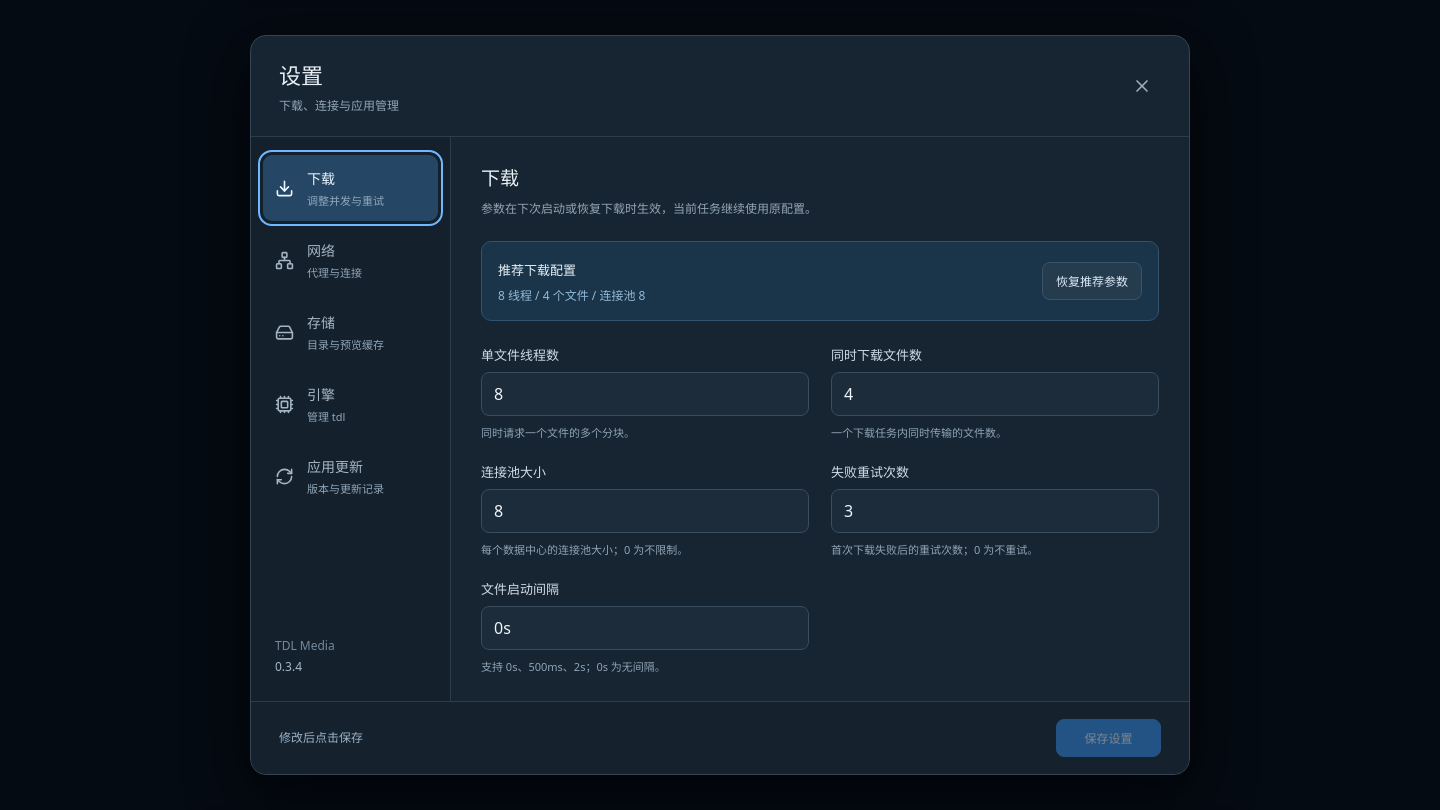
Test case: rejects invalid numbers and places backend validation at the field
This screenshot has width=1440, height=810.
Replace the text in the number field labelled "单文件线程数" with "0" at (645, 394), box [481,372,809,416]
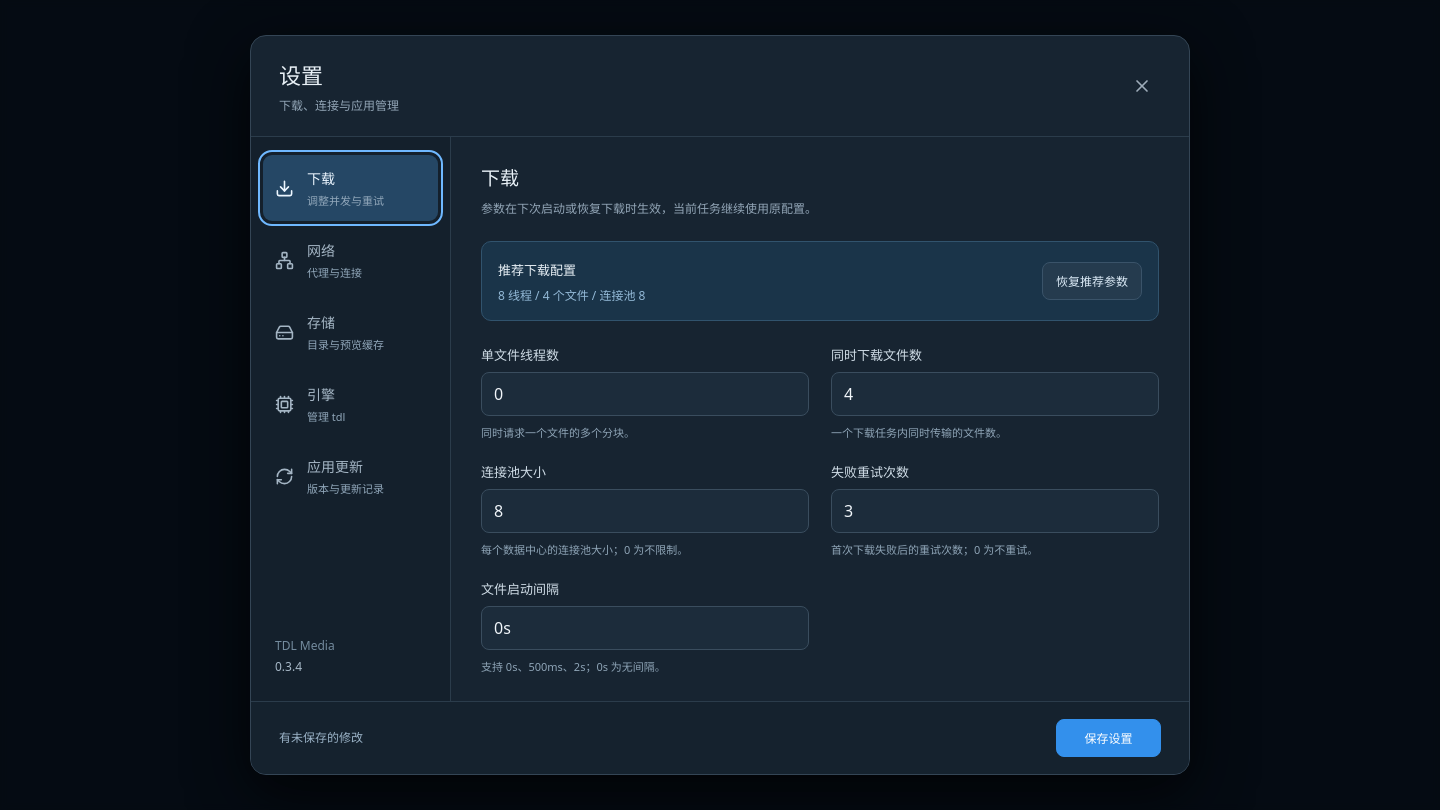
Click the button "保存设置".
click(1108, 738)  # box [1056,719,1161,757]
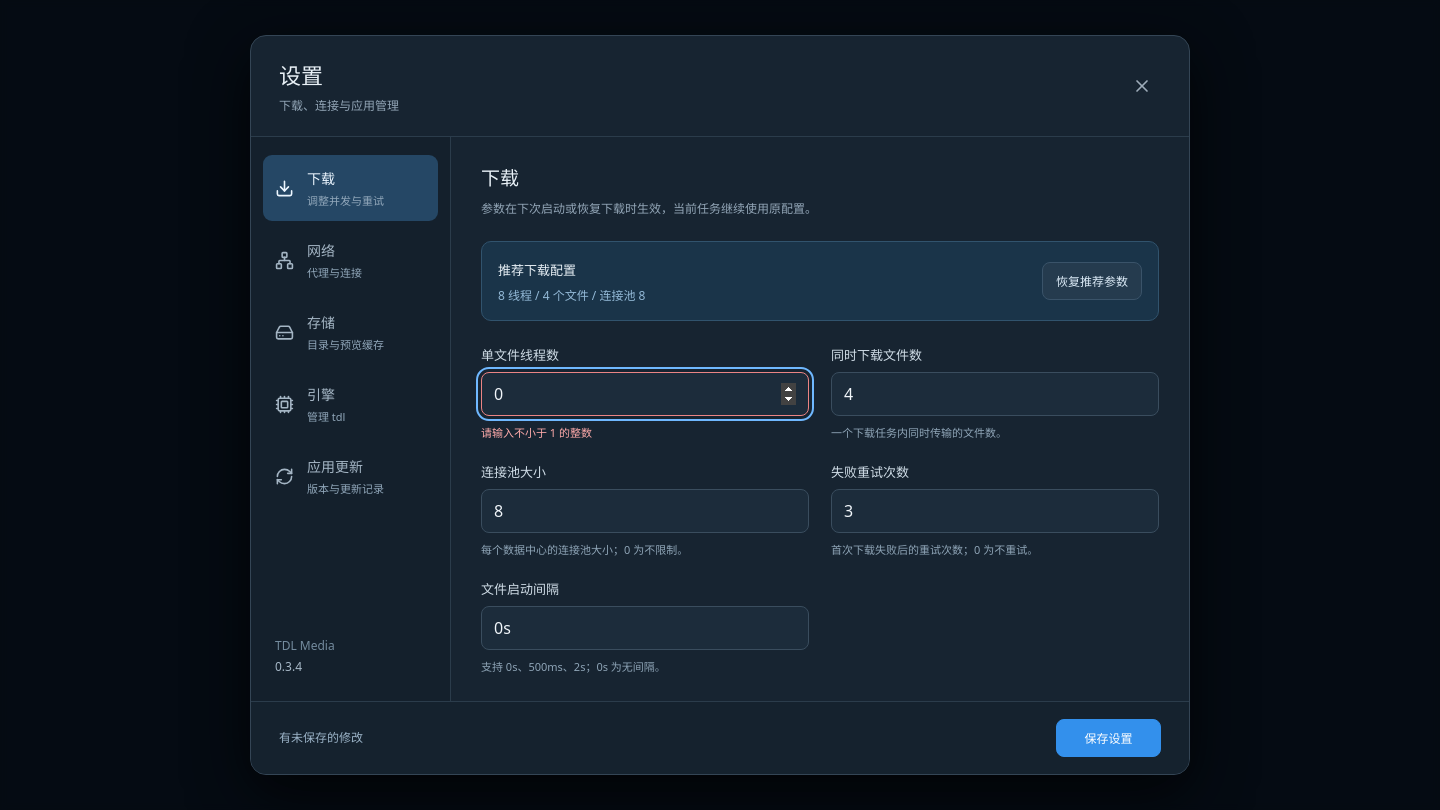
Expected: the text "请输入不小于 1 的整数" is shown, [481,425,592,440]
Replace the text in the number field labelled "单文件线程数" with "12" at (645, 394), box [481,372,809,416]
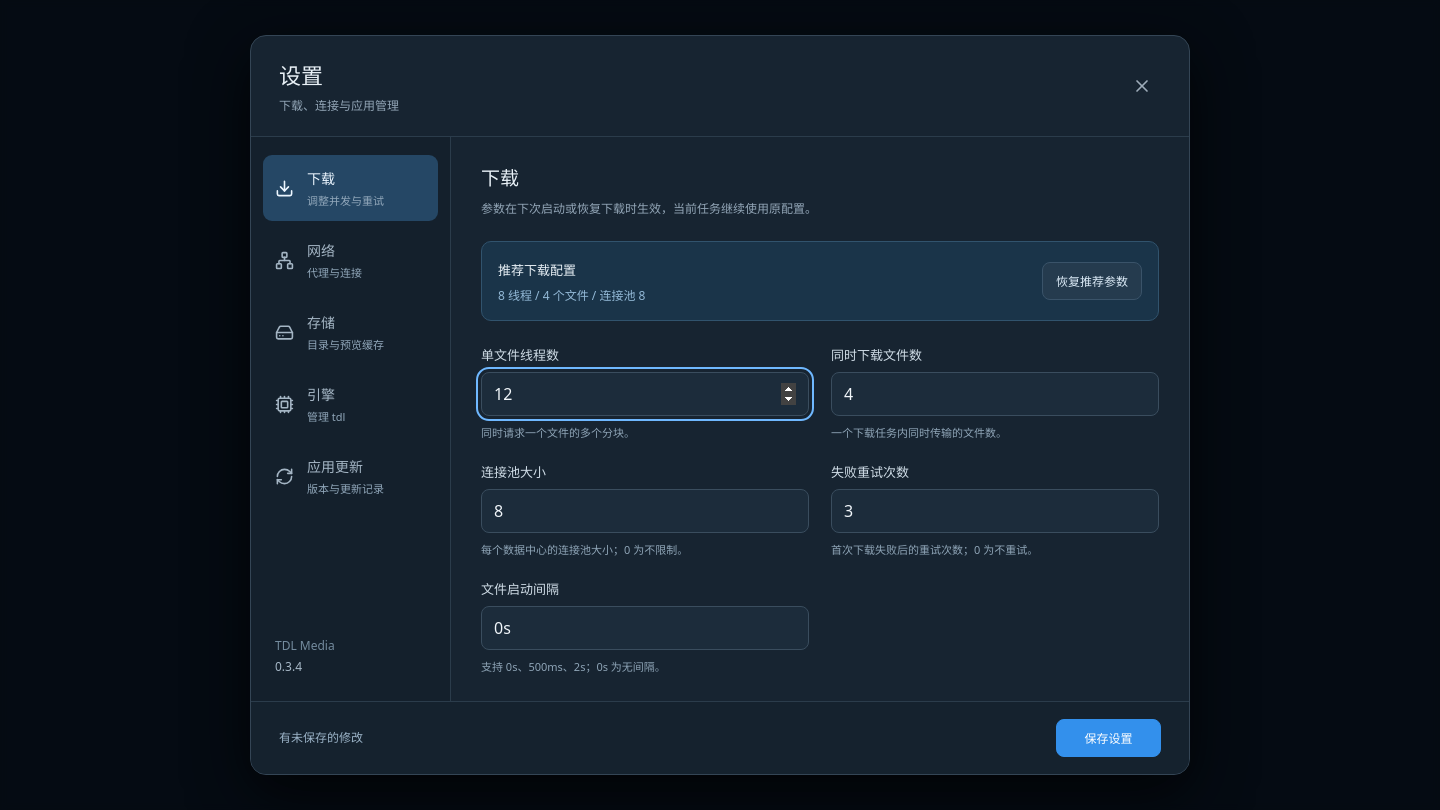
Click the button "保存设置".
click(1108, 738)  # box [1056,719,1161,757]
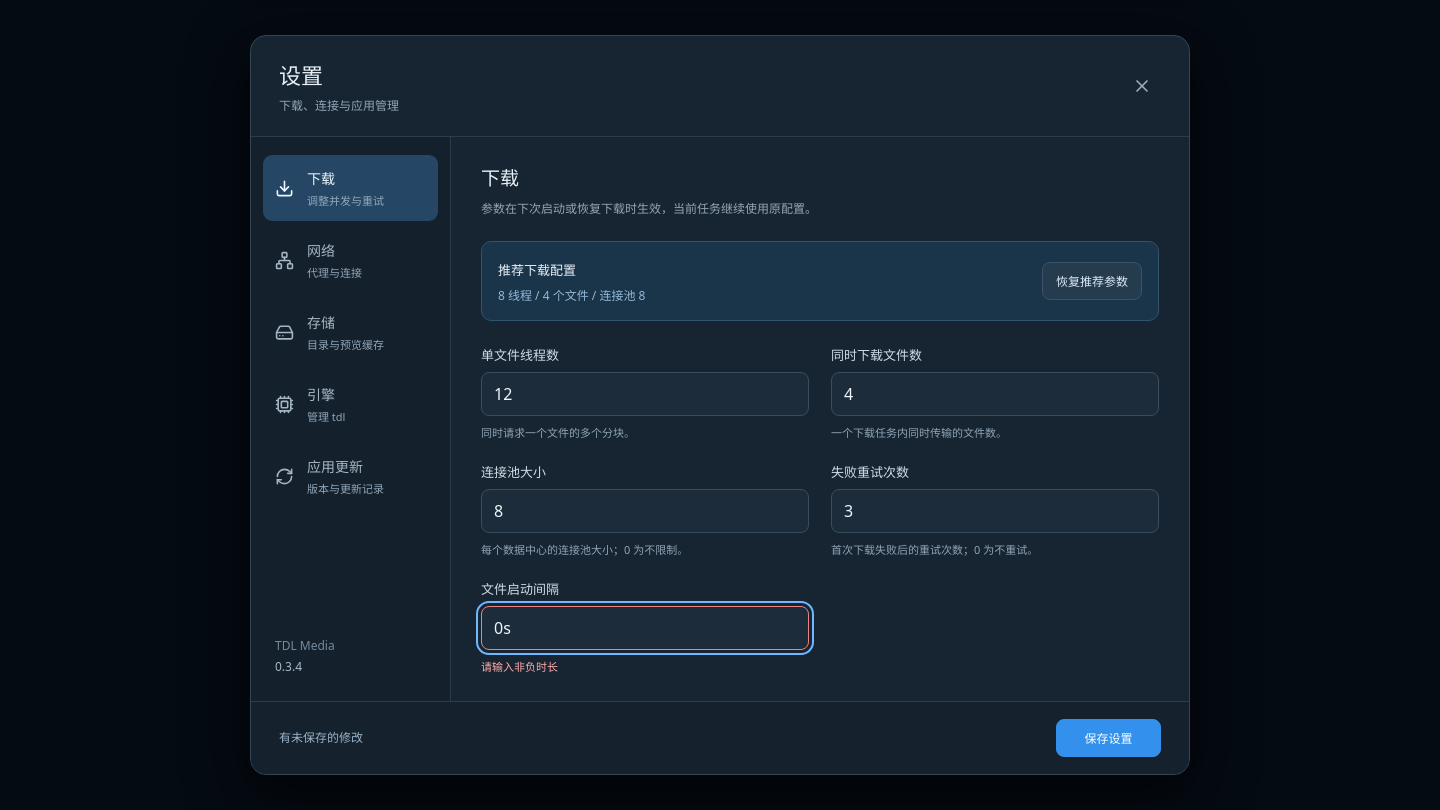
Expected: the text "请输入非负时长" is shown, [481,659,558,674]
